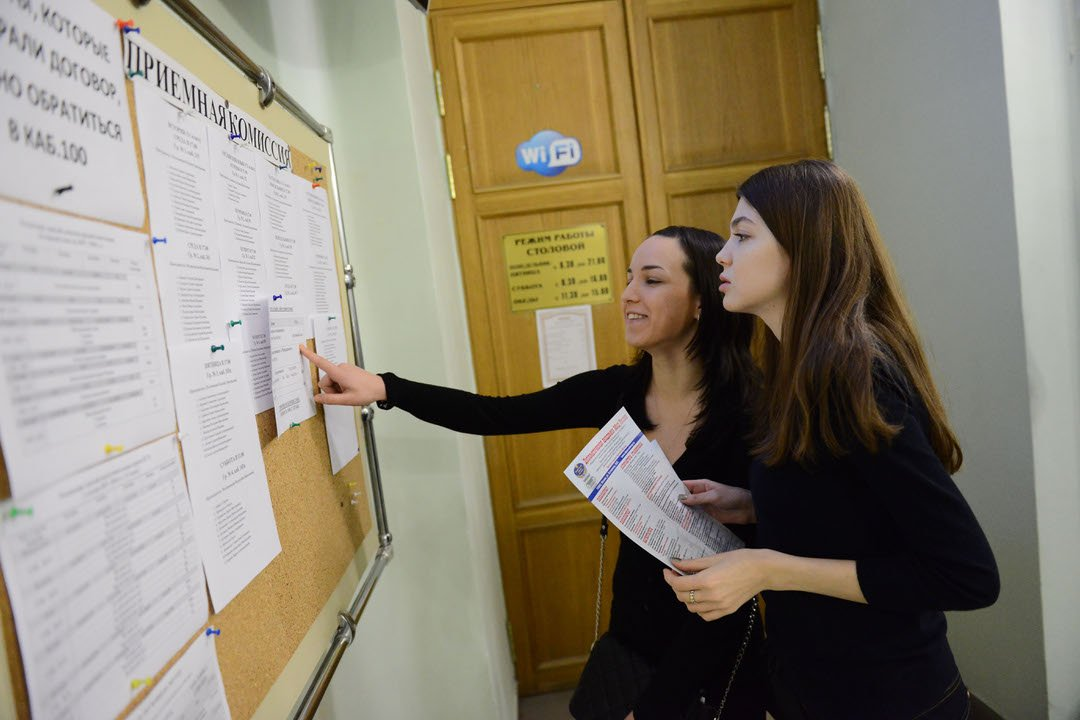students: (301, 226, 757, 718), (663, 160, 1001, 719)
